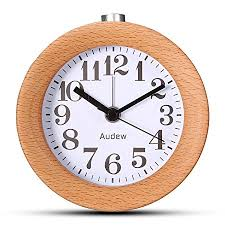alarm_clock: (16, 13, 210, 214), (21, 13, 210, 214)
